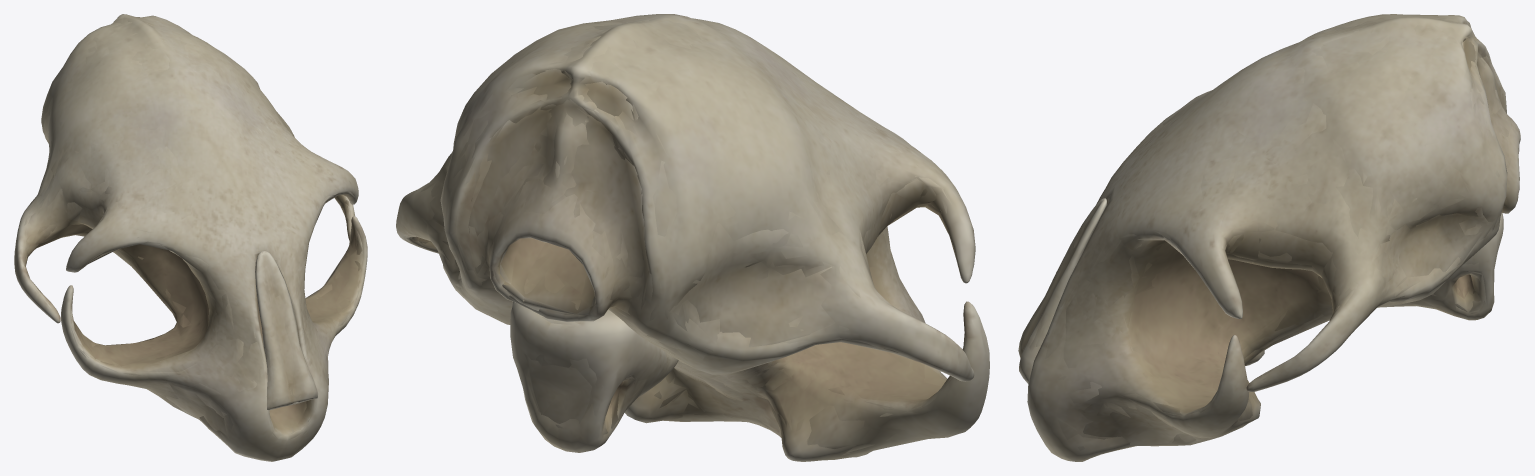
The model's file is Cranium.fbx.
3 renders of one model, left to right at view 1: azimuth 30°, elevation 25°; view 2: azimuth 150°, elevation 25°; view 3: azimuth 270°, elevation 25°, orthographic. The views are drawn at different scales.
Parts seen in each view (by area): view 1: Cranium high, Cranium low, Cranium; view 2: Cranium high, Cranium low, Cranium; view 3: Cranium high, Cranium low, Cranium.
Boxes of the visible parts, left/top/right/bottom form: Cranium high: left=14, top=14, right=367, bottom=461; Cranium low: left=24, top=17, right=362, bottom=436; Cranium: left=22, top=17, right=366, bottom=444; Cranium high: left=396, top=14, right=989, bottom=461; Cranium low: left=408, top=16, right=956, bottom=452; Cranium: left=403, top=15, right=985, bottom=455; Cranium high: left=1018, top=14, right=1520, bottom=461; Cranium low: left=1035, top=19, right=1508, bottom=445; Cranium: left=1029, top=14, right=1518, bottom=450.
Bounding box in the file's own units: 6.58 × 6.39 × 6.71.
Materials: 1 (1 with a texture image).
